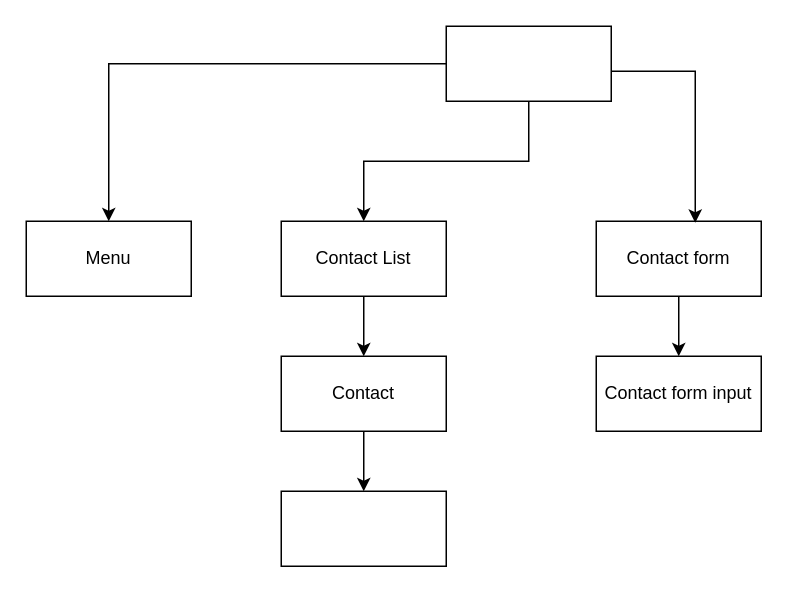
This 788x593 diagram has some shape labels left out. Each missing label, with the centre of its shape:
"App" belongs at [528,63].
"Contact Details" belongs at [363,528].
